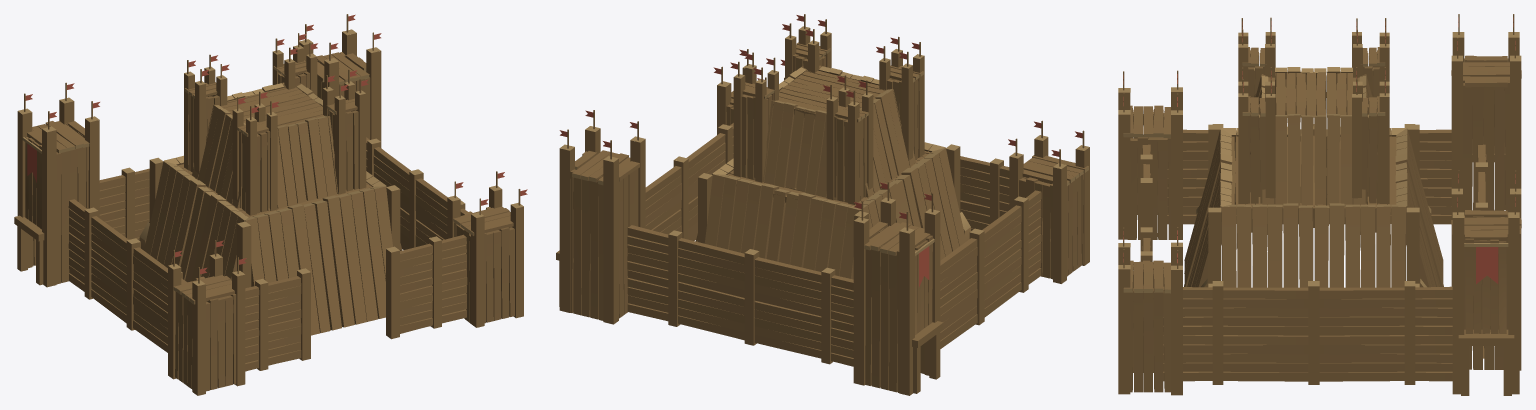
Rendered from wooden-fortress.glb.
The picture shows the model from 3 angles, left to right: view 1: azimuth 30°, elevation 25°; view 2: azimuth 150°, elevation 25°; view 3: azimuth 270°, elevation 25°; orthographic projection. The views are drawn at different scales.
Visible parts, largest first — view 1: Wonder_FirstAge_Level2; view 2: Wonder_FirstAge_Level2; view 3: Wonder_FirstAge_Level2.
Boxes of the visible parts, x1,y1,x2,y2 form: Wonder_FirstAge_Level2: [14, 14, 527, 395]; Wonder_FirstAge_Level2: [556, 14, 1089, 395]; Wonder_FirstAge_Level2: [1118, 14, 1521, 395].
Size of the model in its own units: 2.2 by 1.36 by 1.95.
